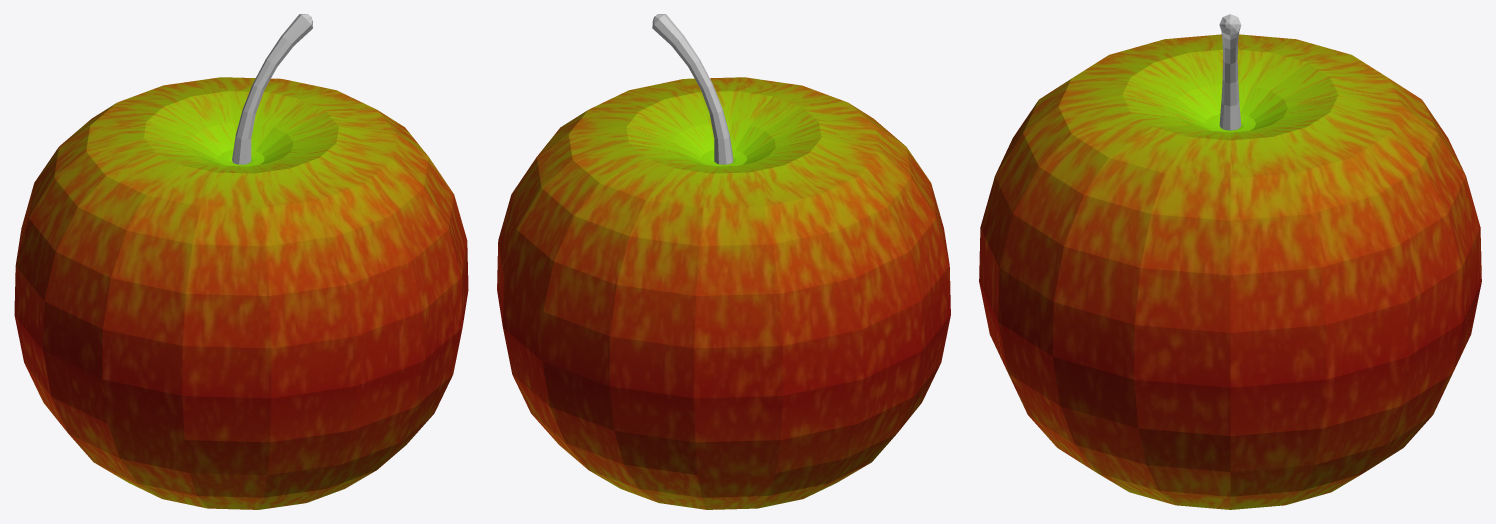
File: apple.obj
3 renders of one model, left to right at view 1: azimuth 30°, elevation 25°; view 2: azimuth 150°, elevation 25°; view 3: azimuth 270°, elevation 25°, orthographic. The views are drawn at different scales.
Visible parts, largest first — view 1: apple; view 2: apple; view 3: apple.
Part boxes in pixels (x1=…): apple: x1=14, y1=14, x2=468, y2=509; apple: x1=497, y1=14, x2=950, y2=509; apple: x1=979, y1=14, x2=1481, y2=509.
Bounding box in the file's own units: 121 × 129 × 121.
